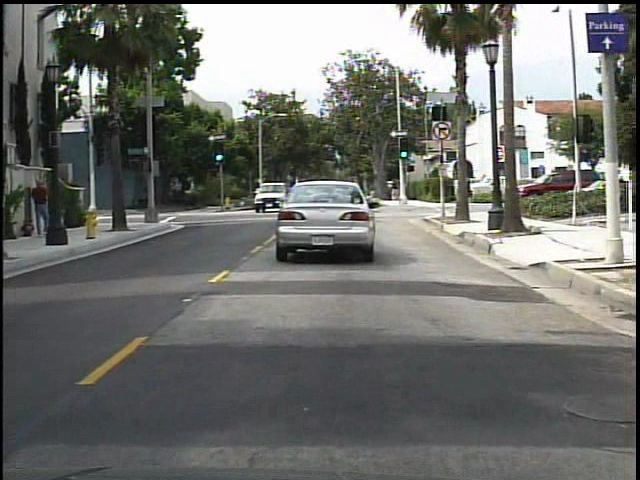person: (27, 176, 55, 243)
